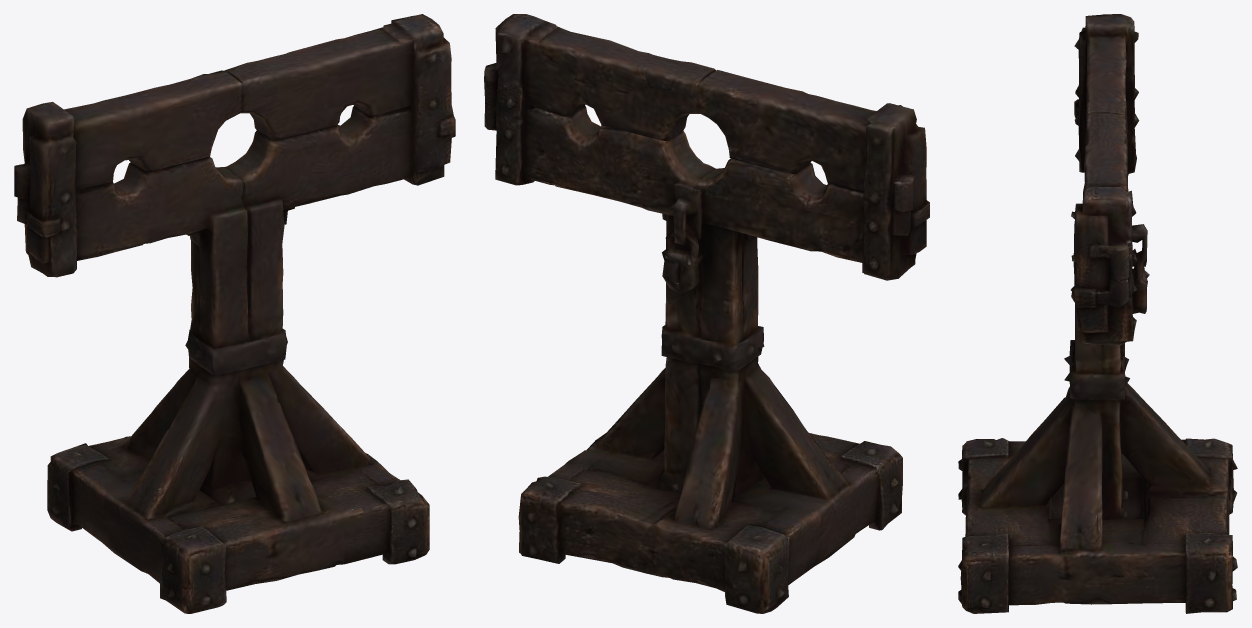
File: pillory.glb
The picture shows the model from 3 angles, left to right: view 1: azimuth 30°, elevation 25°; view 2: azimuth 150°, elevation 25°; view 3: azimuth 270°, elevation 25°; orthographic projection. The views are drawn at different scales.
Parts seen in each view (by area): view 1: pillory; view 2: pillory; view 3: pillory.
Boxes of the visible parts, x1,y1,x2,y2 form: pillory: [14, 14, 455, 613]; pillory: [484, 14, 929, 613]; pillory: [958, 14, 1237, 613].
Bounding box in the file's own units: 2.08 × 2.2 × 1.23.
Materials: 1 (1 with a texture image).
